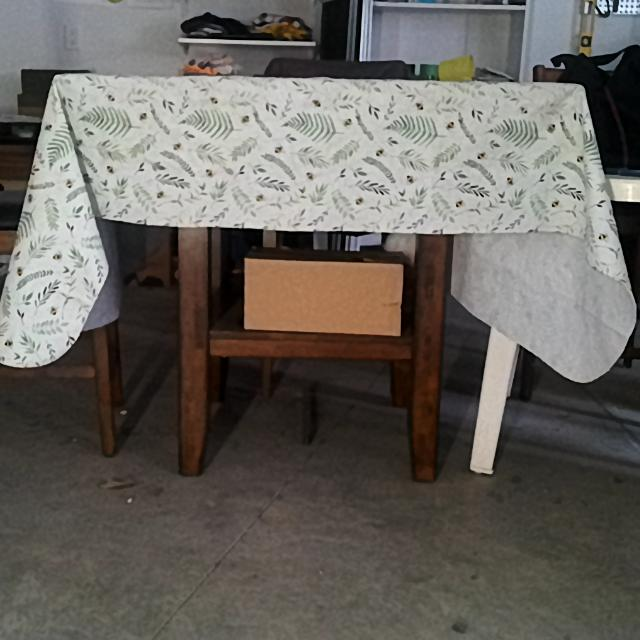box: (244, 260, 403, 334)
